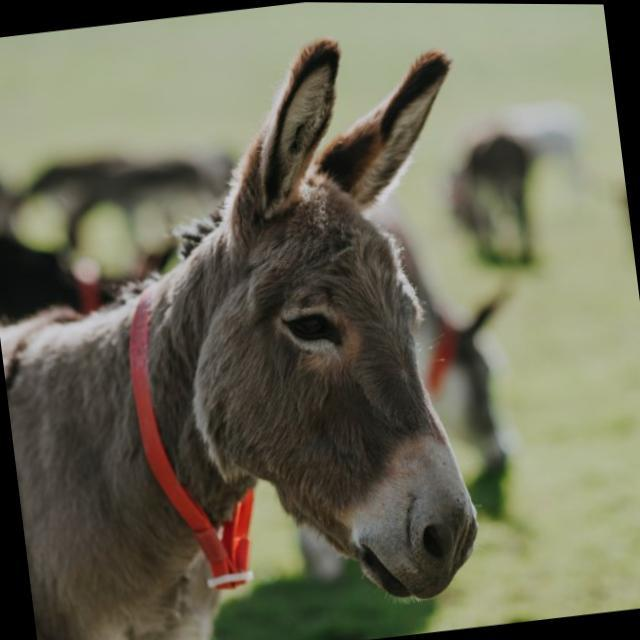Donkey: (0, 31, 523, 640)
